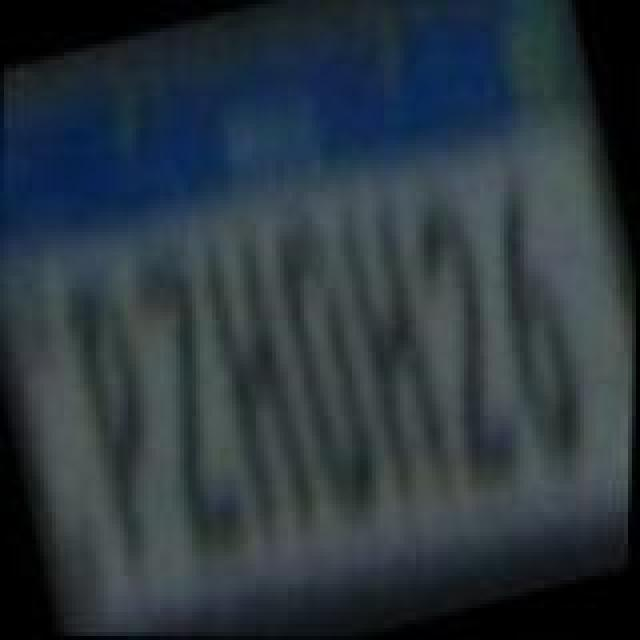2: (396, 184, 540, 496)
6: (464, 168, 608, 480)
D: (258, 216, 406, 532)
H: (318, 192, 474, 520), (182, 222, 334, 542)
P: (48, 260, 196, 580)
Z: (114, 244, 266, 564)
